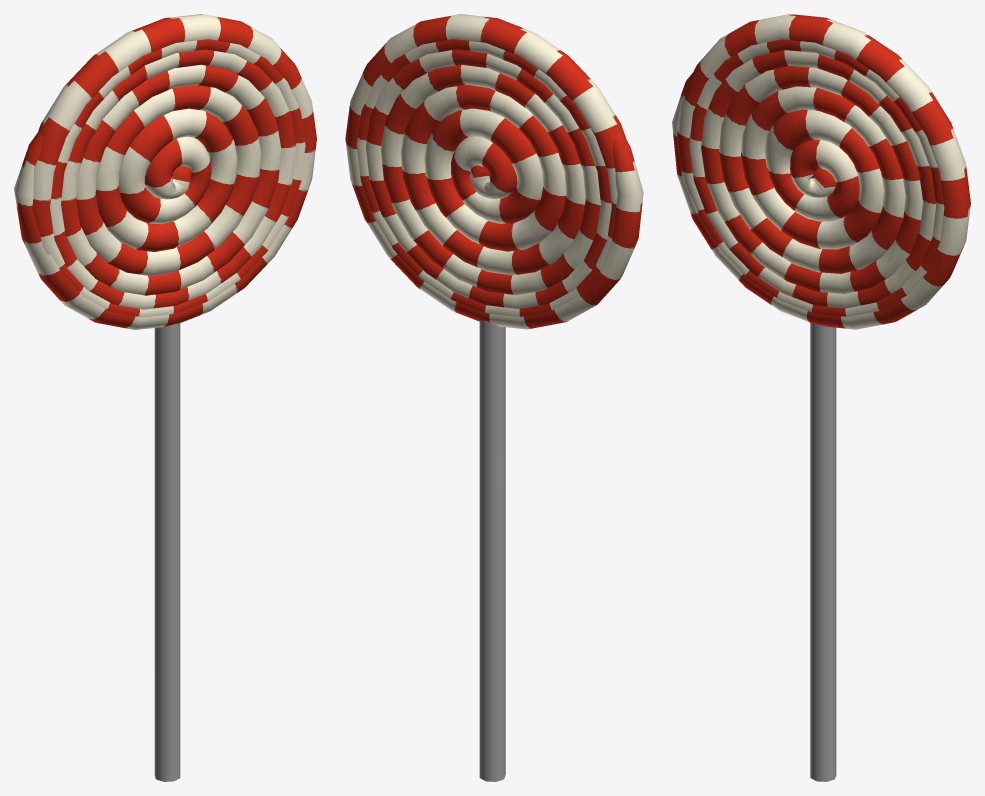
File: lolipop_spiral.fbx
3 renders of one model, left to right at view 1: azimuth 30°, elevation 25°; view 2: azimuth 150°, elevation 25°; view 3: azimuth 330°, elevation 25°, orthographic.
Visible parts, largest first — view 1: Lolipop_Spiral; view 2: Lolipop_Spiral; view 3: Lolipop_Spiral.
Boxes of the visible parts, <box> form: Lolipop_Spiral: <box>14,14,316,781</box>; Lolipop_Spiral: <box>345,14,643,781</box>; Lolipop_Spiral: <box>672,14,970,781</box>.
Size of the model in its own units: 314 by 767 by 40.91.
